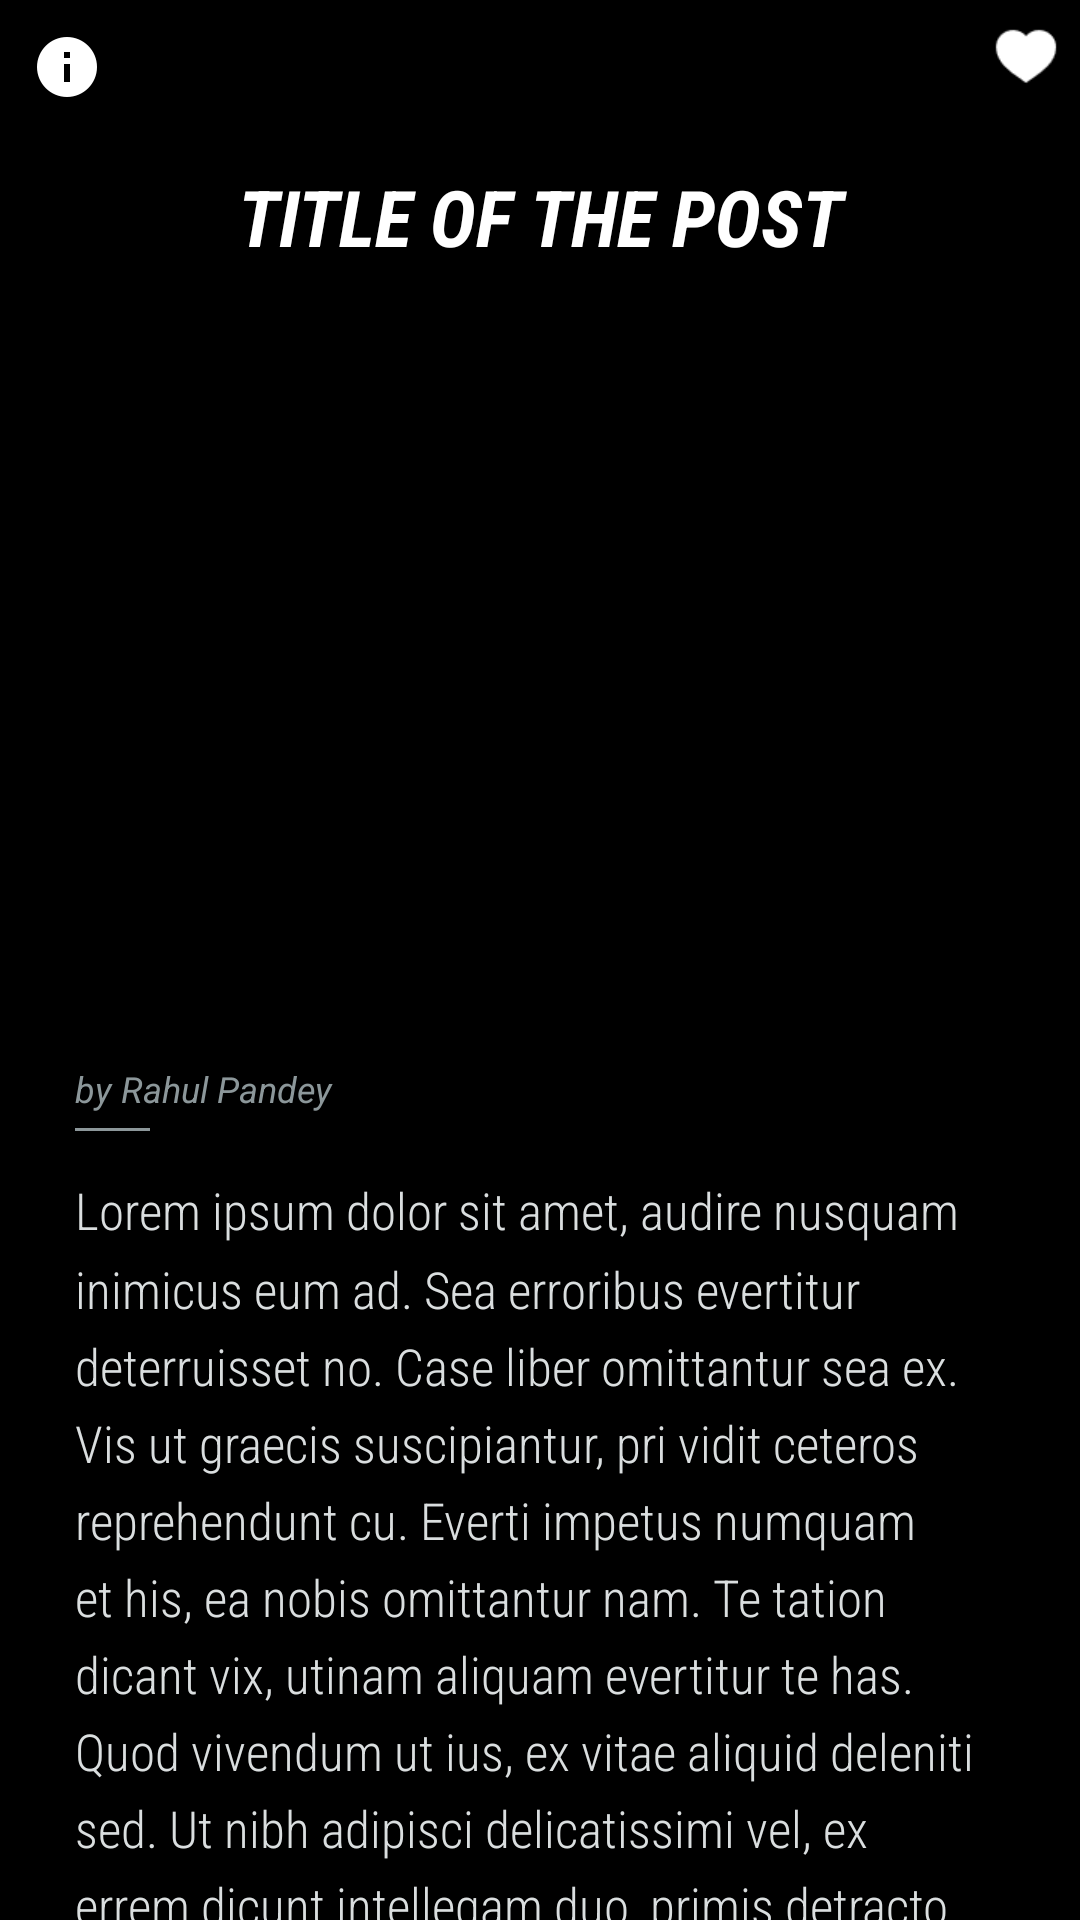

Icons on this 1080 x 1920 Android screen, each with the point to tap as (x=x, y=y):
heart: (x=1026, y=56)
info: (x=67, y=67)
